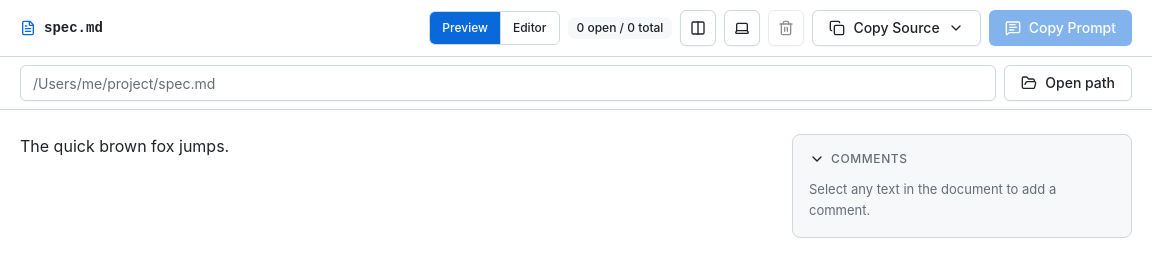
it: App path picker › opens a server path from the document view and persists it in the URL
expect the text "spec.md" is shown: met, box [44,18,103,38]
Type "/tmp/other.md" into the field named "Markdown file path". click: (508, 83)
box: [20,65,996,101]
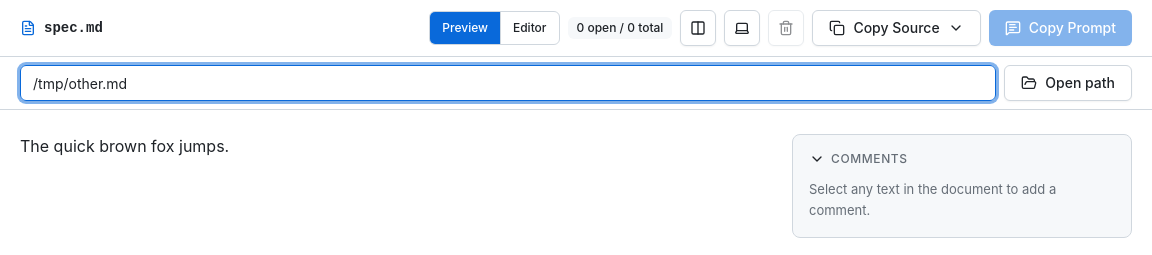
Click the button "Open path". click: (1068, 83)
box: [1004,65,1132,101]
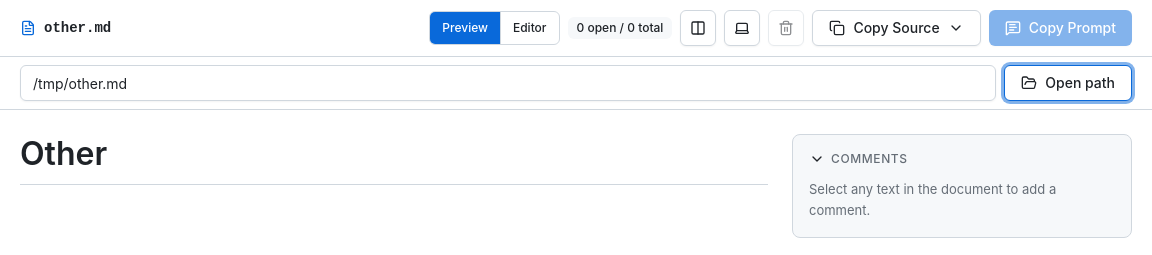
expect the heading "Other" is shown: met, box [20,134,768,185]
